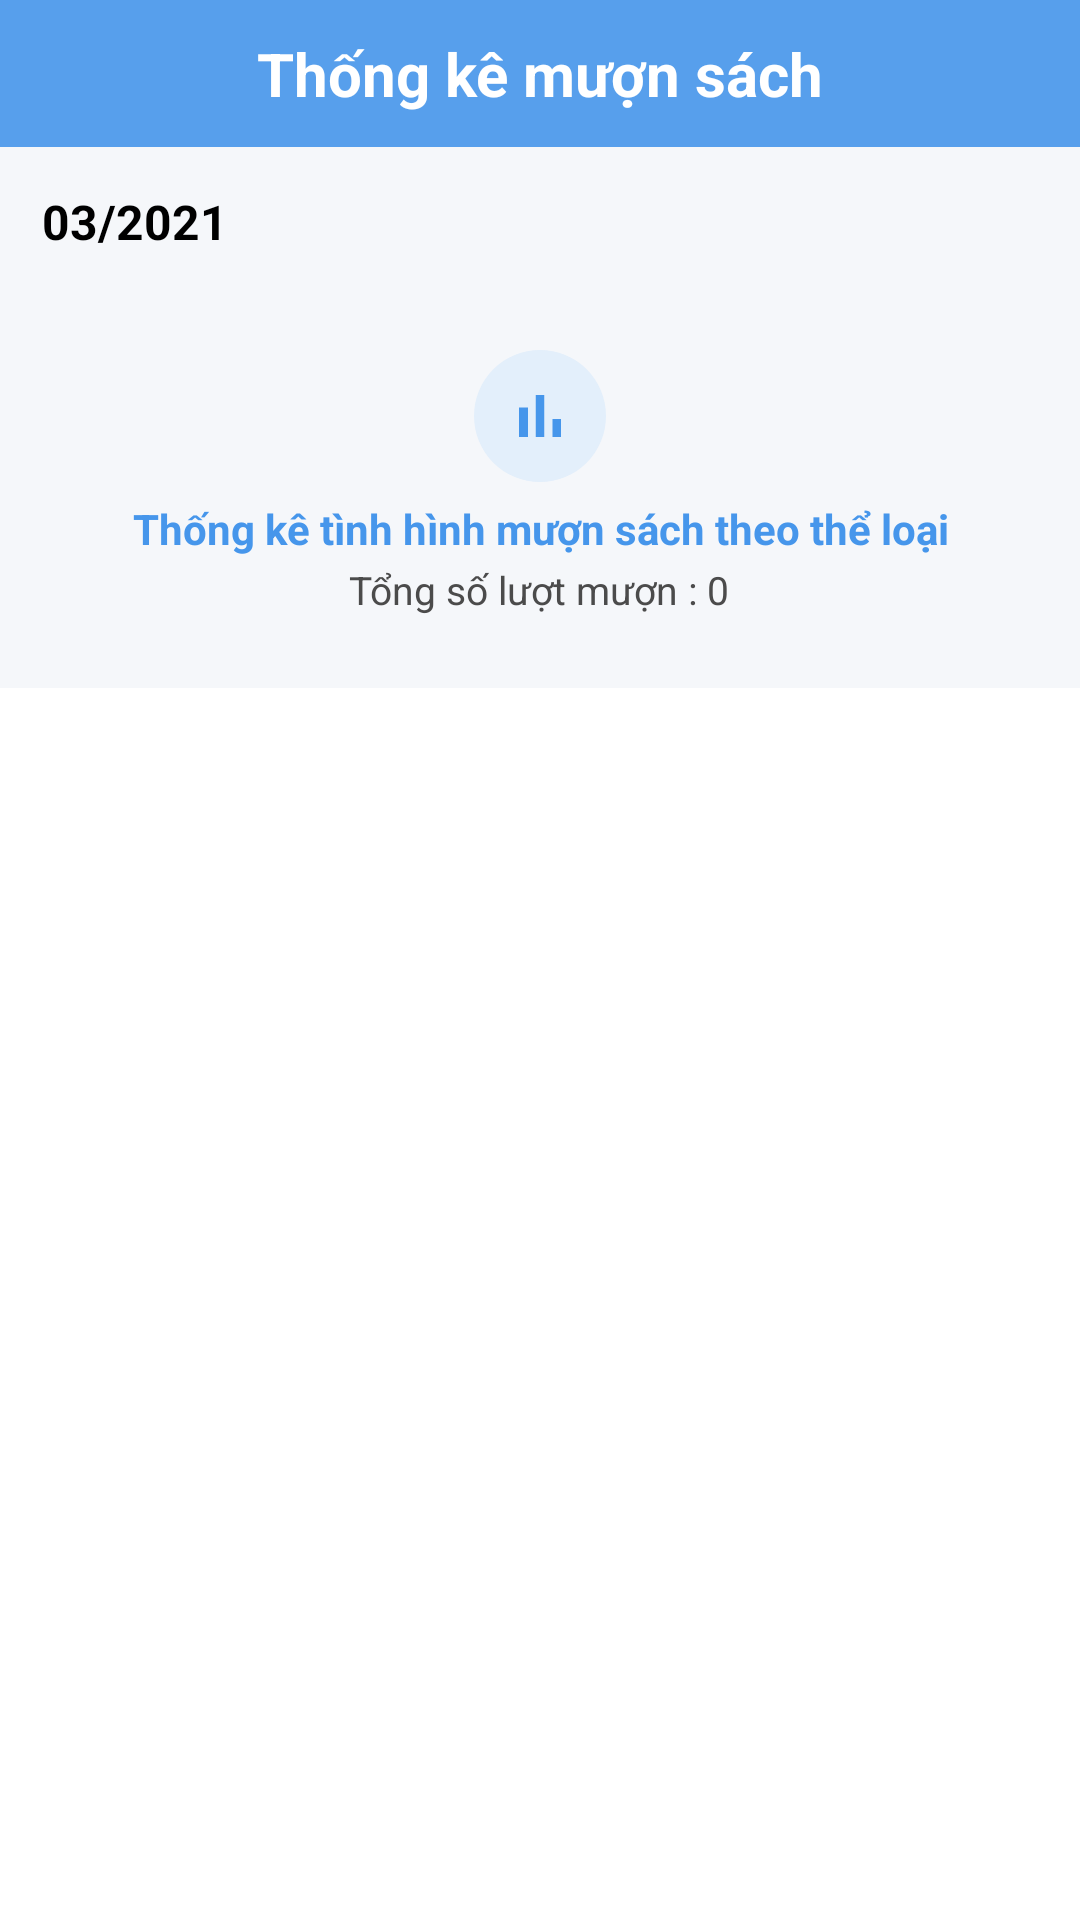

Named icons in this screenshot (1080px x 1920px) and their bounding boxes, BBox(x1, y1, x2, y2):
Biểu đồ: BBox(474, 350, 606, 482)
